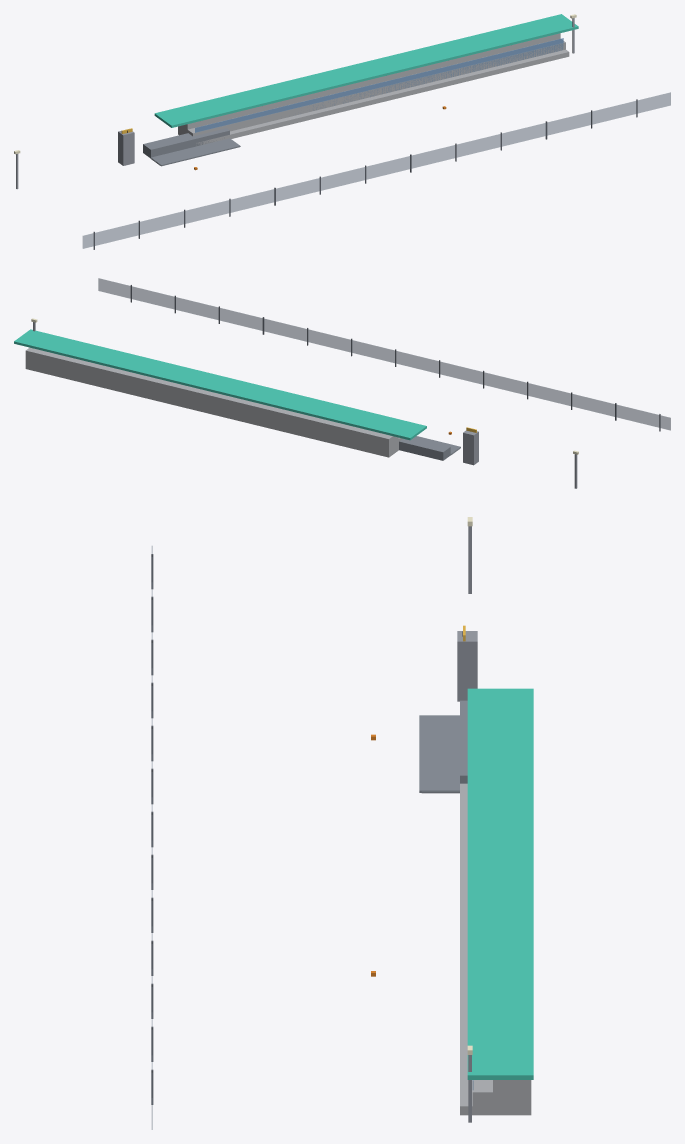
The model's file is venue_4.obj.
The picture shows the model from 3 angles, top to bottom: view 1: azimuth 30°, elevation 25°; view 2: azimuth 150°, elevation 25°; view 3: azimuth 270°, elevation 25°; orthographic projection. The views are drawn at different scales.
Bounding box in the file's own units: 520 × 32 × 150.
